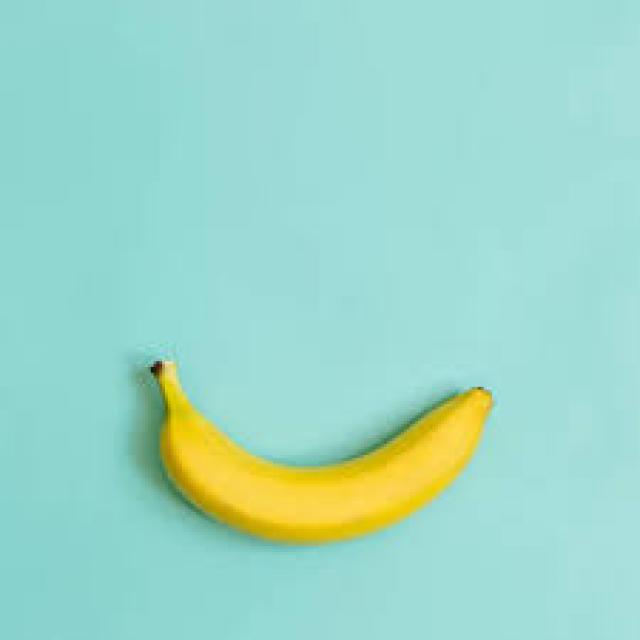banana: (145, 353, 501, 549)
